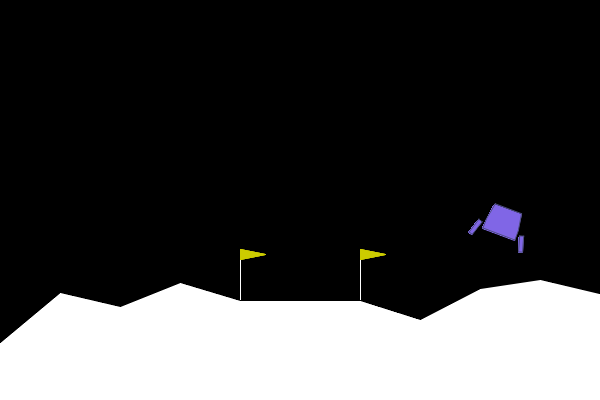lander: (467, 197, 537, 255)
